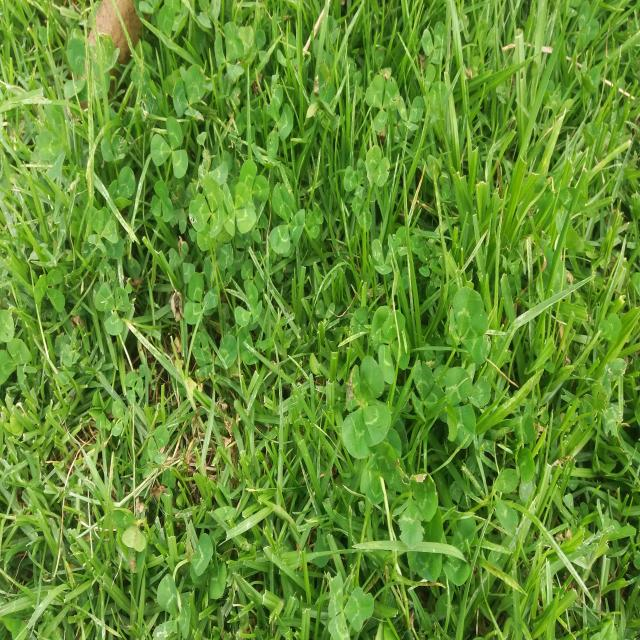Four Leaf Clover: (342, 372, 391, 459), (371, 305, 410, 369), (222, 182, 257, 237)
